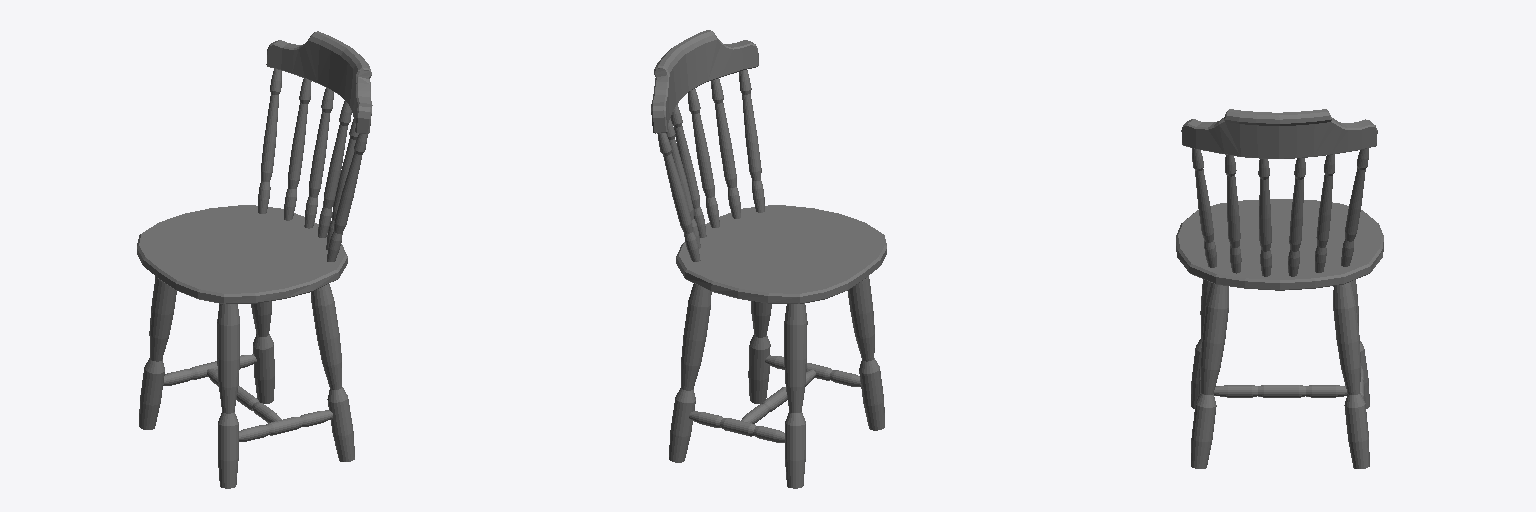
Rendered from NSChair.obj.
3 views of the same model, side by side, from view 1: azimuth 30°, elevation 25°; view 2: azimuth 150°, elevation 25°; view 3: azimuth 270°, elevation 25° (orthographic).
Parts seen in each view (by area): view 1: chair; view 2: chair; view 3: chair.
Boxes of the visible parts, x1=… form: chair: x1=137, y1=31, x2=372, y2=488; chair: x1=651, y1=30, x2=886, y2=488; chair: x1=1176, y1=109, x2=1383, y2=468.
Size of the model in its own units: 301 by 551 by 278.